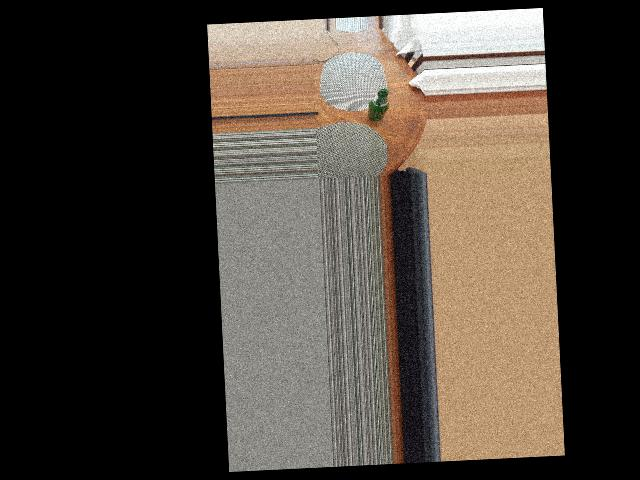beer: (367, 88, 390, 122)
